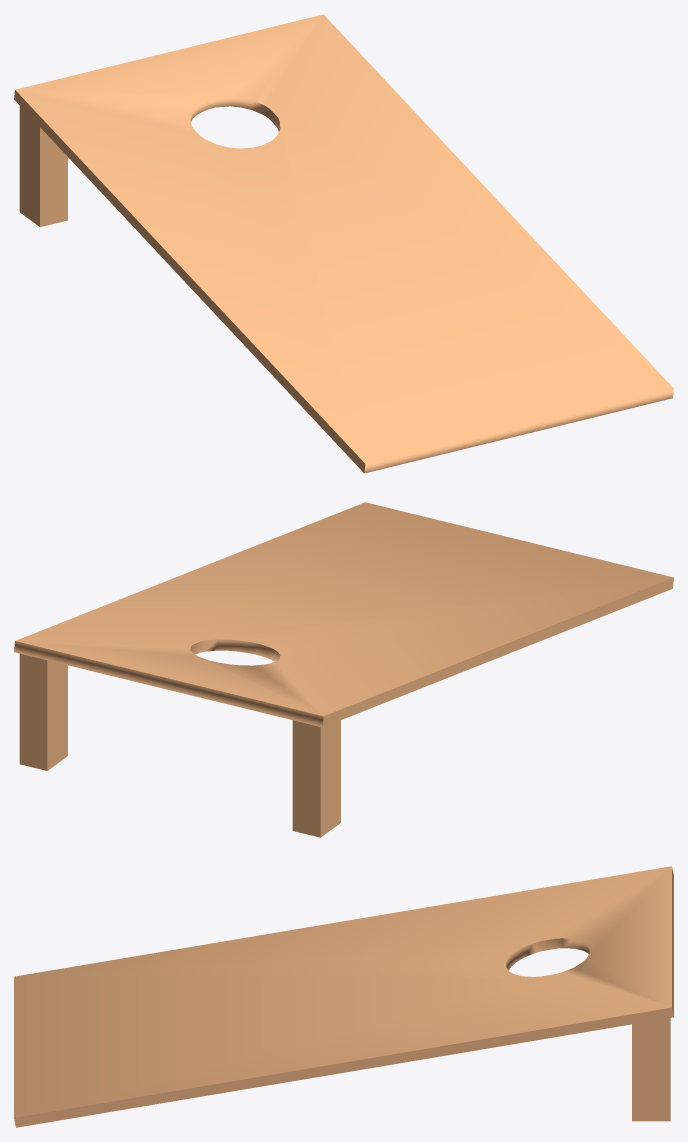
File: Cornhole.fbx
3 views of the same model, one above another, from view 1: azimuth 30°, elevation 25°; view 2: azimuth 150°, elevation 25°; view 3: azimuth 270°, elevation 25° (orthographic). The views are drawn at different scales.
Visible parts, largest first — view 1: CornTable; view 2: CornTable; view 3: CornTable.
Part boxes in pixels (x1,y1,x2,y2): CornTable: [14, 14, 673, 473]; CornTable: [14, 502, 673, 837]; CornTable: [14, 866, 673, 1127].
Bounding box in the file's own units: 61 × 24.2 × 120.
